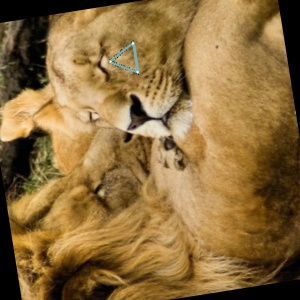triangle: (109, 39, 142, 76)
